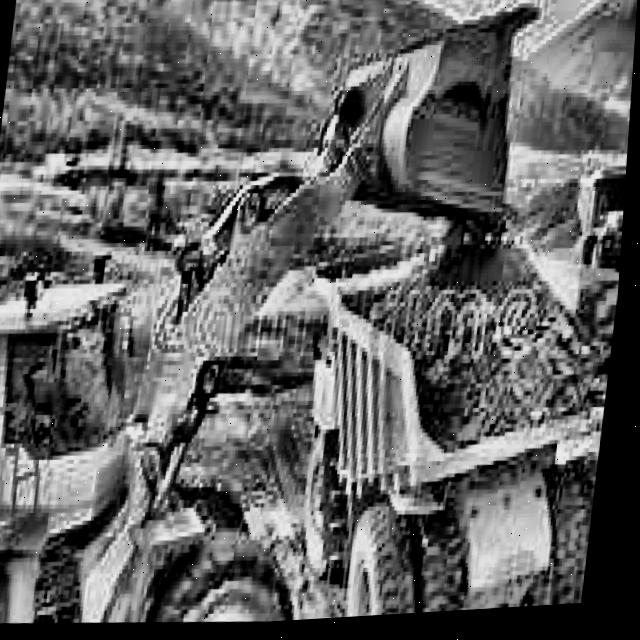buldozerpayloadergrader: (0, 0, 564, 640)
dump_truck: (301, 248, 625, 624)
